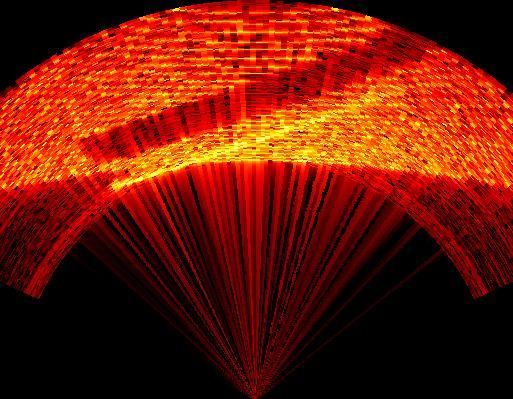pipe: (78, 26, 438, 168)
